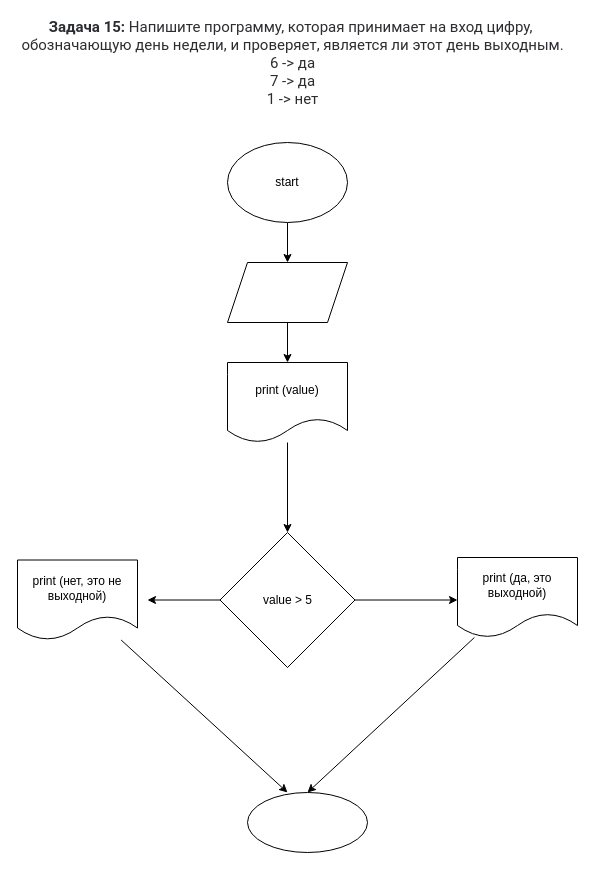
Some shapes in this 595 by 870 pixel diagram are drawn without their labels. The shapes that lost their labels are listed below. From the top down, each one's centre as x and y in pixels, then its label:
At point 287,292: "value = random {1,...7}".
At point 307,822: "end".
